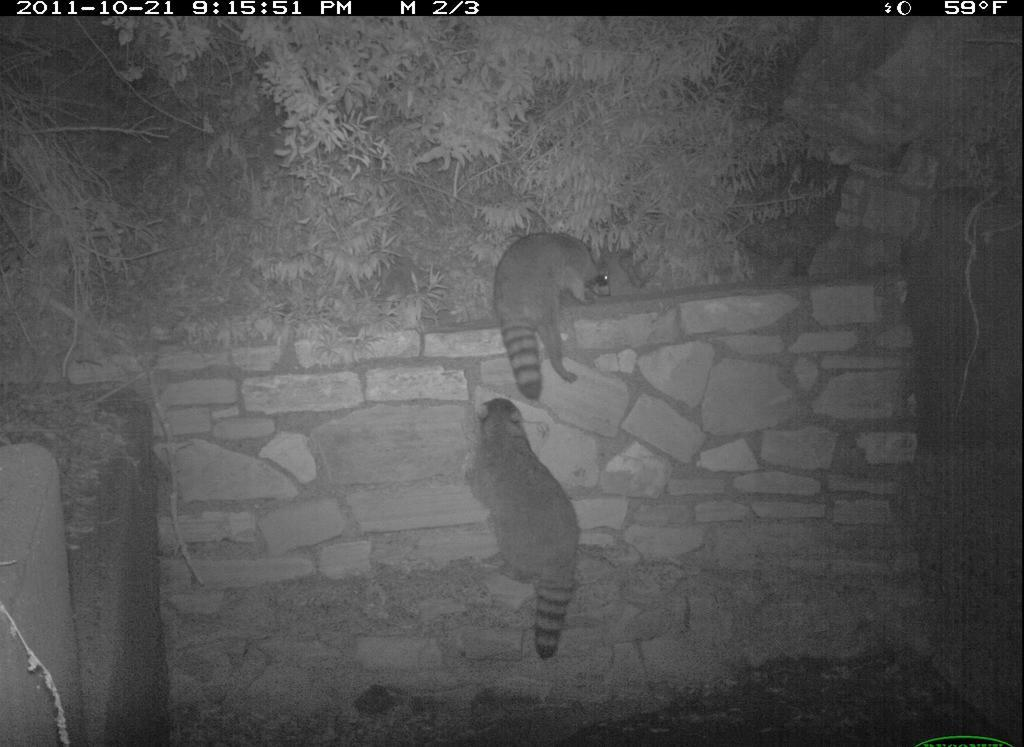raccoon: (450, 381, 606, 661), (477, 201, 641, 393)
